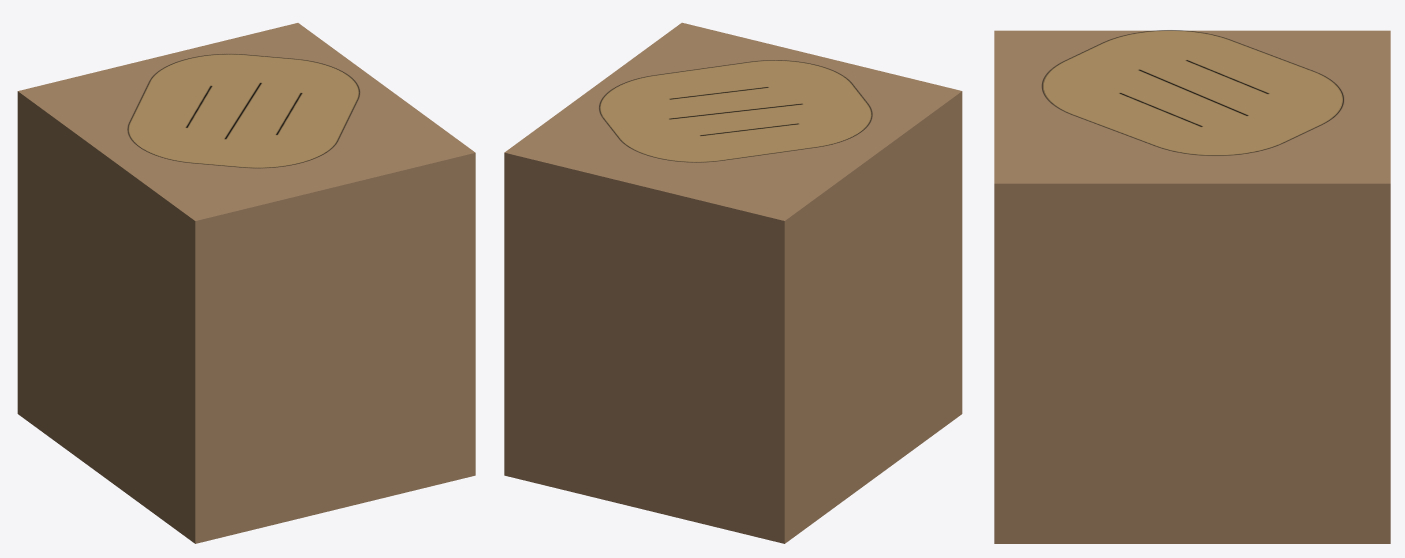
File: steak_box.glb
The picture shows the model from 3 angles, left to right: view 1: azimuth 30°, elevation 25°; view 2: azimuth 150°, elevation 25°; view 3: azimuth 270°, elevation 25°; orthographic projection. The views are drawn at different scales.
Parts seen in each view (by area): view 1: Cube.039, Group 13; view 2: Cube.039, Group 13; view 3: Cube.039, Group 13.
Part boxes in pixels (x1,y1,x2,y2): Cube.039: (17, 23, 475, 543); Group 13: (127, 54, 359, 168); Cube.039: (504, 22, 962, 543); Group 13: (599, 60, 872, 162); Cube.039: (994, 30, 1390, 543); Group 13: (1042, 30, 1343, 155).
Bounding box in the file's own units: 1.84 × 2.03 × 1.95.
Materials: 2 (1 with a texture image).
